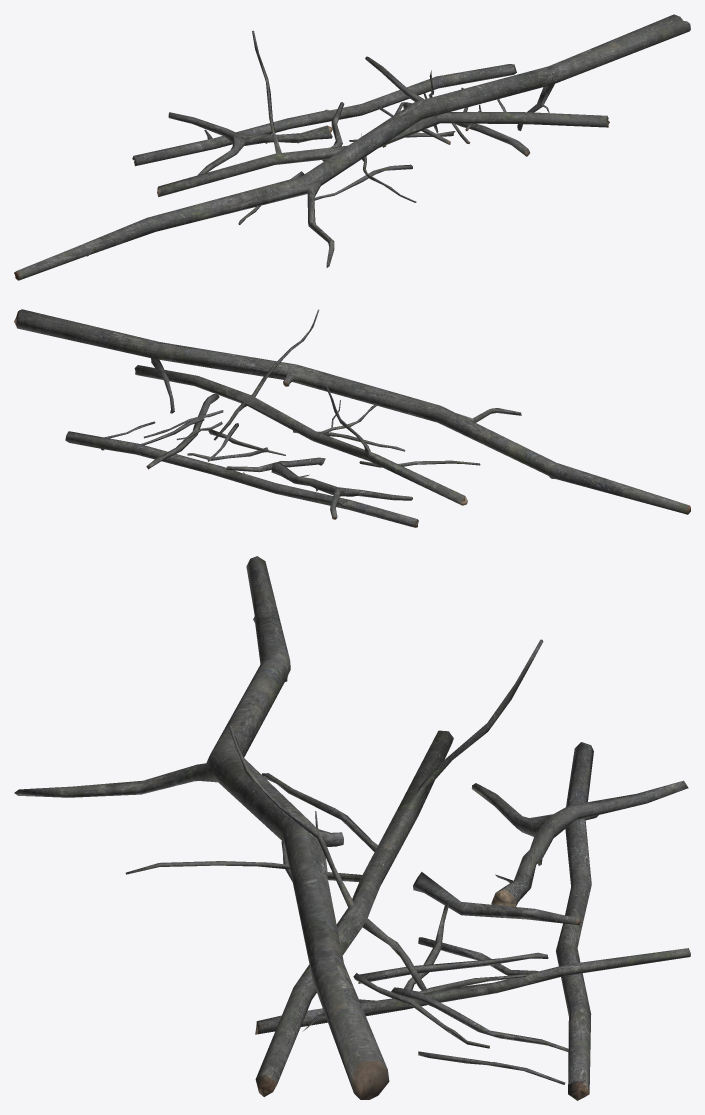
Rendered from Rama_grupo.glb.
3 views of the same model, one above another, from view 1: azimuth 30°, elevation 25°; view 2: azimuth 150°, elevation 25°; view 3: azimuth 270°, elevation 25° (orthographic). The views are drawn at different scales.
Visible parts, largest first — view 1: Fallen_Tree_Branches_02_v1; view 2: Fallen_Tree_Branches_02_v1; view 3: Fallen_Tree_Branches_02_v1.
Boxes of the visible parts, box(x1,y1,x2,y2) form: Fallen_Tree_Branches_02_v1: box(14, 14, 690, 280); Fallen_Tree_Branches_02_v1: box(14, 309, 690, 527); Fallen_Tree_Branches_02_v1: box(14, 556, 690, 1100).
Size of the model in its own units: 9.58 by 1.54 by 4.32.
Materials: 1 (1 with a texture image).
